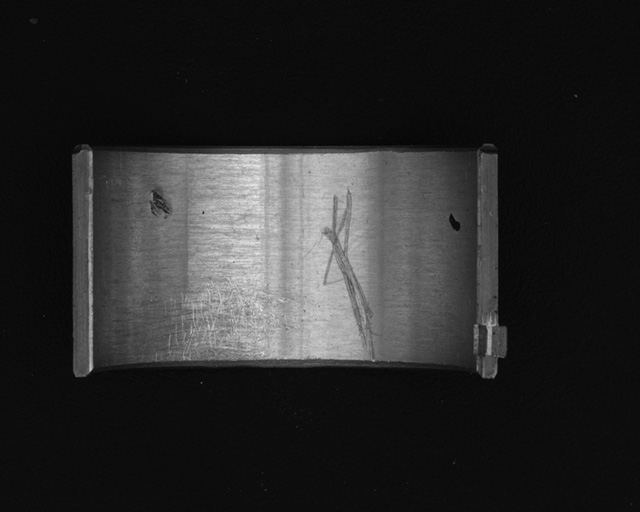blot: (447, 212, 462, 233)
bruise: (147, 186, 172, 220)
nick: (322, 189, 379, 363)
scratch: (156, 283, 305, 362)
